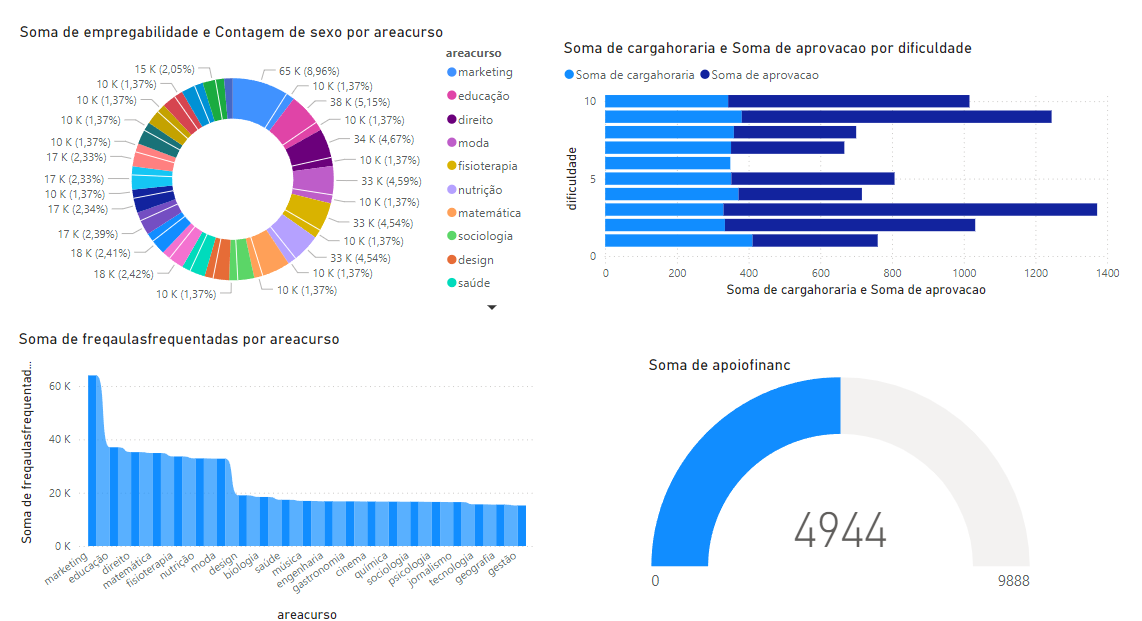

This screenshot's page, from the dashboard's own definition file:
{"tool":"powerbi","page":{"name":"Página 1","canvas":[1280,720],"ordinal":0},"visuals":[{"type":"donutChart","fields":{"Category":["CURSO.areacurso"],"Y":["Sum(DESEMPENHOACADEMICO.empregabilidade)","CountNonNull(ALUNO.sexo)"]},"box":[50.4,38.9,568.5,321.6],"z":0},{"type":"ribbonChart","fields":{"Y":["Sum(DESEMPENHOACADEMICO.freqaulasfrequentadas)"],"Category":["CURSO.areacurso"]},"box":[50,371,569,322],"z":1},{"type":"barChart","fields":{"Category":["DISCIPLINAS.dificuldade"],"Y":["Sum(DISCIPLINAS.cargahoraria)","Sum(DESEMPENHOACADEMICO.aprovacao)"]},"box":[640,56.7,611.6,285.8],"z":2},{"type":"gauge","fields":{"Y":["Sum(SITUACAOFINANCEIRA.apoiofinanc)"]},"box":[732.5,399.3,425.6,264.8],"z":3}]}

Visuals, with their boxes on the page's 1280x720 design canvas (x1, y1, x2, y2). These are canvas units, not pixel positions in the 1142x621 screenshot, which may show the page scaled, cropped or inside an application window:
donutChart - CURSO.areacurso x Sum(DESEMPENHOACADEMICO.empregabilidade): BBox(50, 39, 619, 360)
ribbonChart - Sum(DESEMPENHOACADEMICO.freqaulasfrequentadas) x CURSO.areacurso: BBox(50, 371, 619, 693)
barChart - DISCIPLINAS.dificuldade x Sum(DISCIPLINAS.cargahoraria): BBox(640, 57, 1252, 342)
gauge - Sum(SITUACAOFINANCEIRA.apoiofinanc): BBox(732, 399, 1158, 664)
